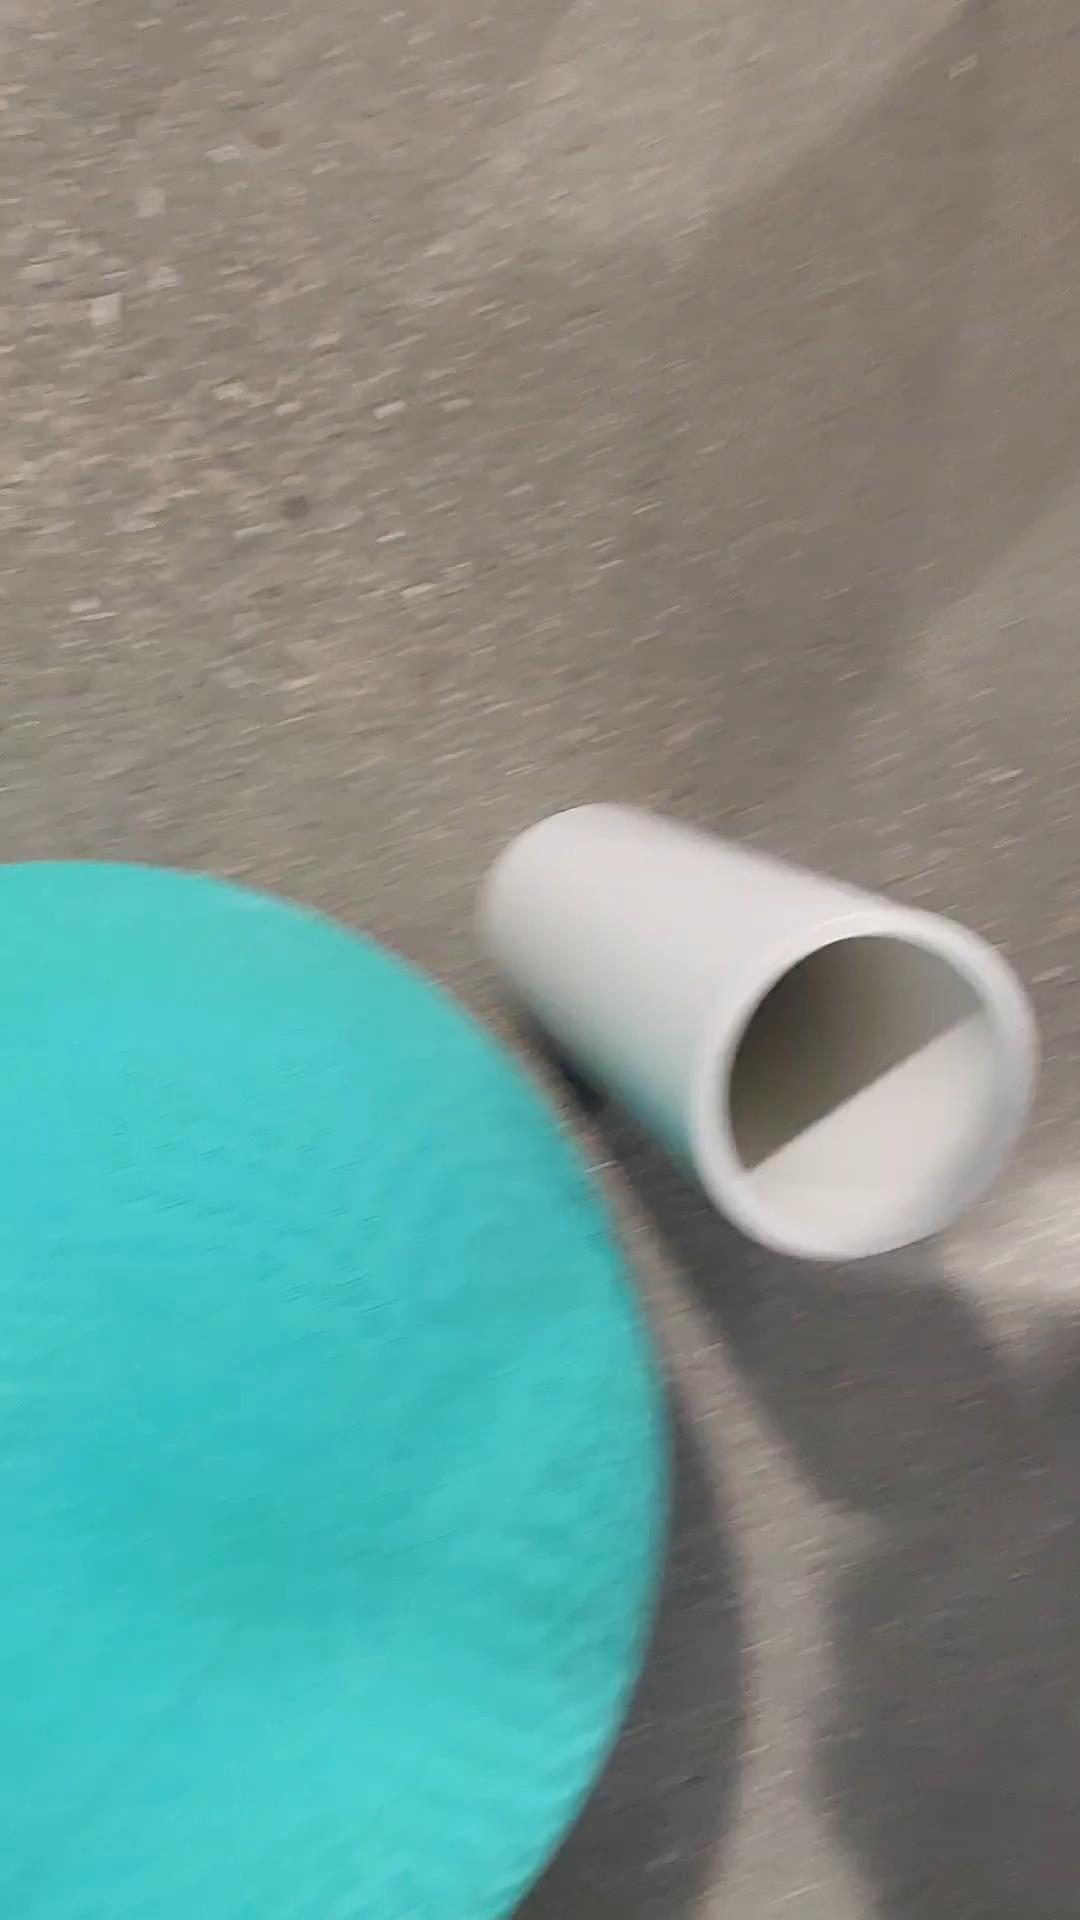algae: (0, 860, 667, 1920)
coral: (477, 800, 1035, 1261)
